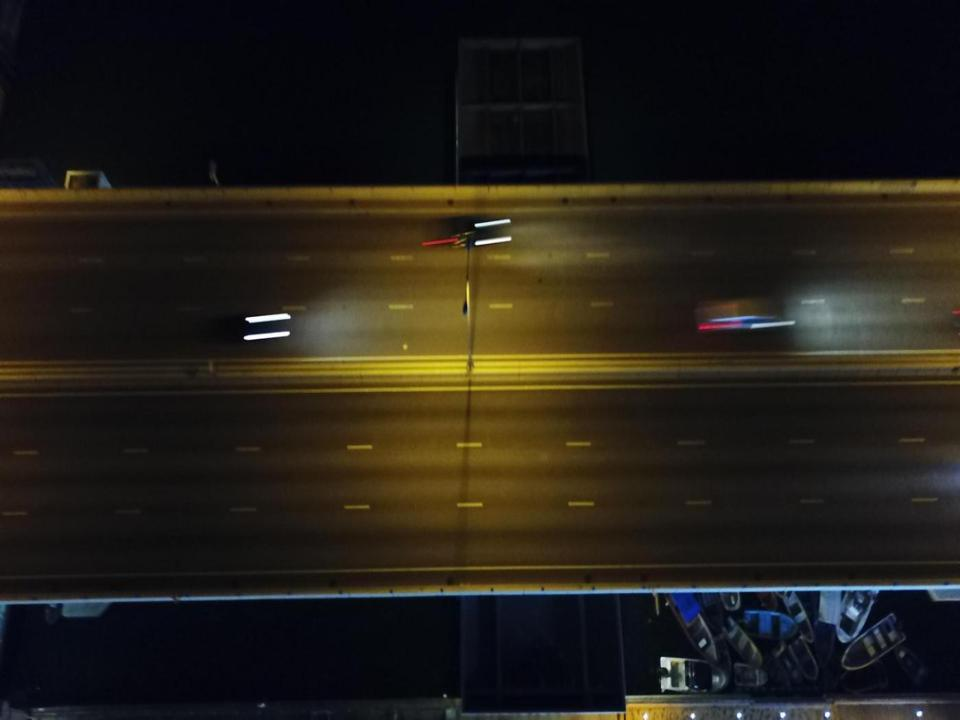car: (694, 297, 784, 332), (426, 216, 496, 246), (212, 309, 272, 341)
